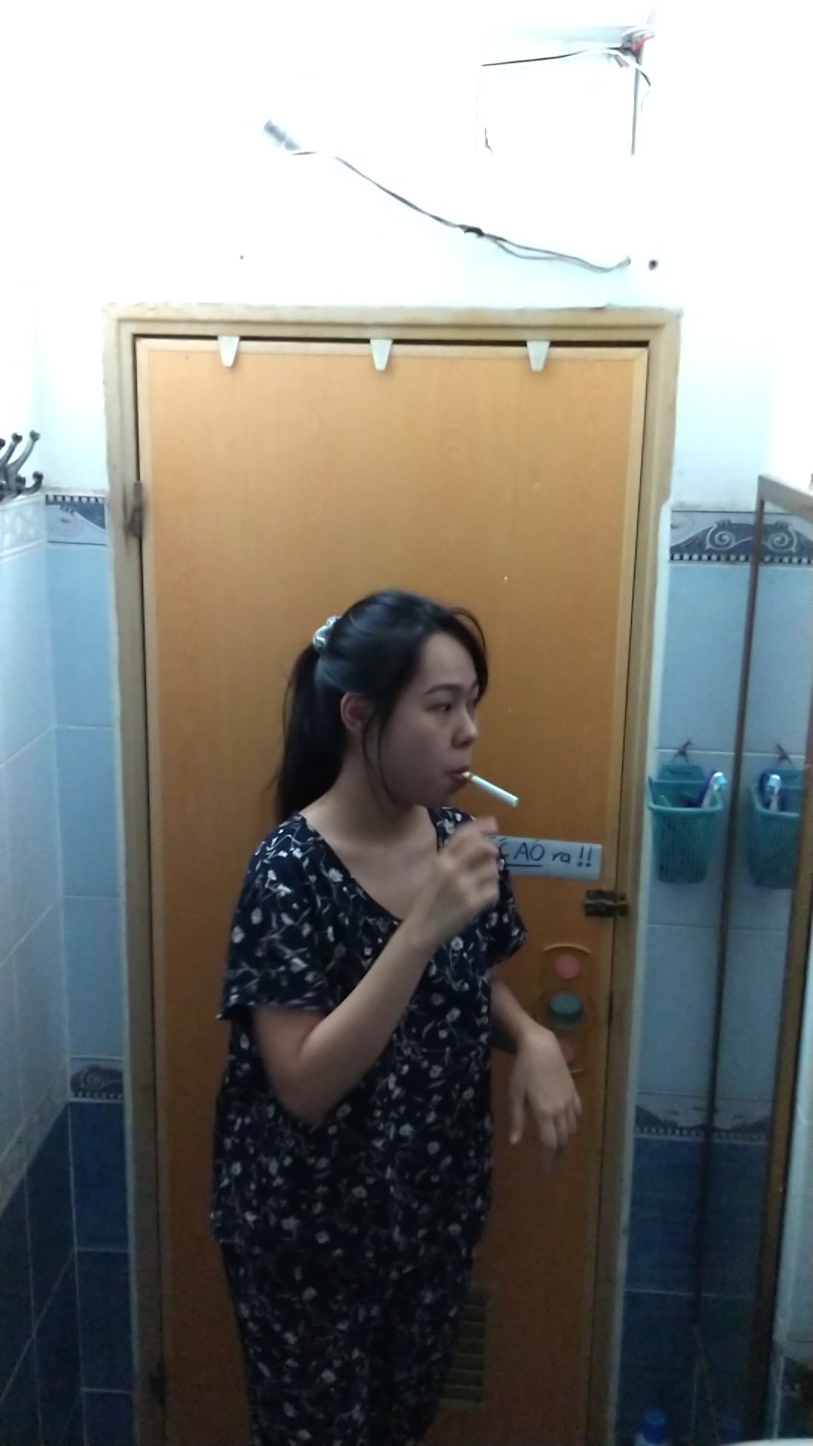cigarette: (457, 765, 523, 816)
person: (199, 568, 562, 1446)
